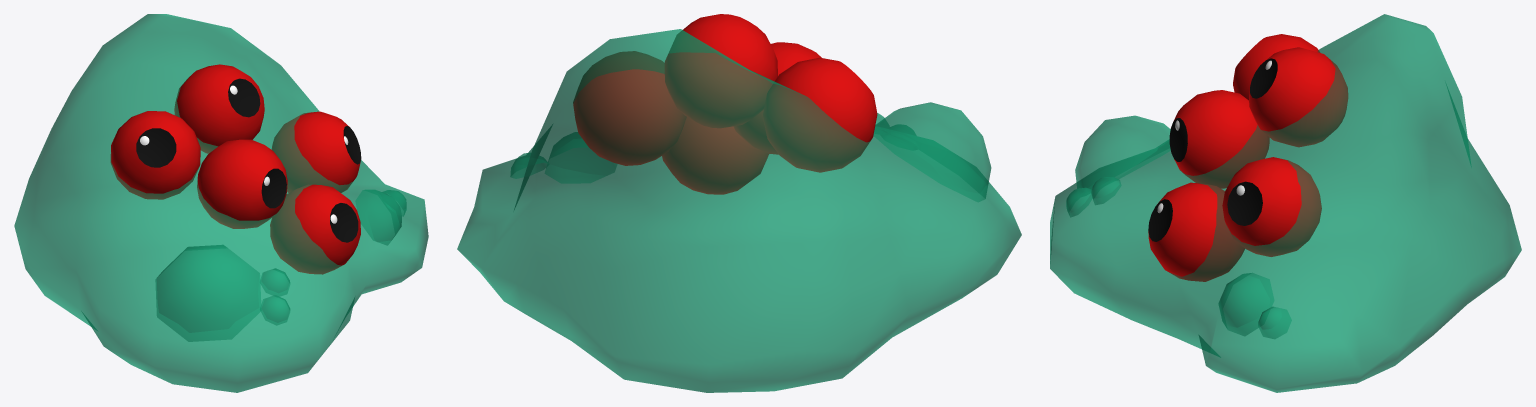
The model's file is slaim_core.FBX.
The picture shows the model from 3 angles, left to right: view 1: azimuth 30°, elevation 25°; view 2: azimuth 150°, elevation 25°; view 3: azimuth 270°, elevation 25°; orthographic projection. The views are drawn at different scales.
Parts seen in each view (by area): view 1: slaim_core_body, slaim_core_eye001, slaim_core_eye, slaim_core_eye004, slaim_core_eye002, slaim_core_eye003; view 2: slaim_core_body, slaim_core_eye, slaim_core_eye002, slaim_core_eye003, slaim_core_eye004, slaim_core_eye001; view 3: slaim_core_body, slaim_core_eye002, slaim_core_eye003, slaim_core_eye001, slaim_core_eye004, slaim_core_eye.
Boxes of the visible parts, bbox=[...] form: slaim_core_body: bbox=[14, 14, 428, 392]; slaim_core_eye001: bbox=[197, 139, 287, 228]; slaim_core_eye: bbox=[110, 111, 200, 199]; slaim_core_eye004: bbox=[270, 184, 360, 274]; slaim_core_eye002: bbox=[174, 64, 264, 153]; slaim_core_eye003: bbox=[271, 111, 361, 192]; slaim_core_body: bbox=[457, 29, 1021, 392]; slaim_core_eye: bbox=[763, 57, 877, 172]; slaim_core_eye002: bbox=[664, 14, 777, 128]; slaim_core_eye003: bbox=[573, 51, 686, 165]; slaim_core_eye004: bbox=[662, 117, 768, 194]; slaim_core_eye001: bbox=[734, 42, 821, 154]; slaim_core_body: bbox=[1050, 14, 1521, 392]; slaim_core_eye002: bbox=[1249, 47, 1348, 147]; slaim_core_eye003: bbox=[1222, 157, 1321, 256]; slaim_core_eye001: bbox=[1169, 90, 1269, 188]; slaim_core_eye004: bbox=[1148, 182, 1244, 281]; slaim_core_eye: bbox=[1233, 34, 1320, 99].
Bounding box in the file's own units: 23.8 × 15.68 × 24.15.
